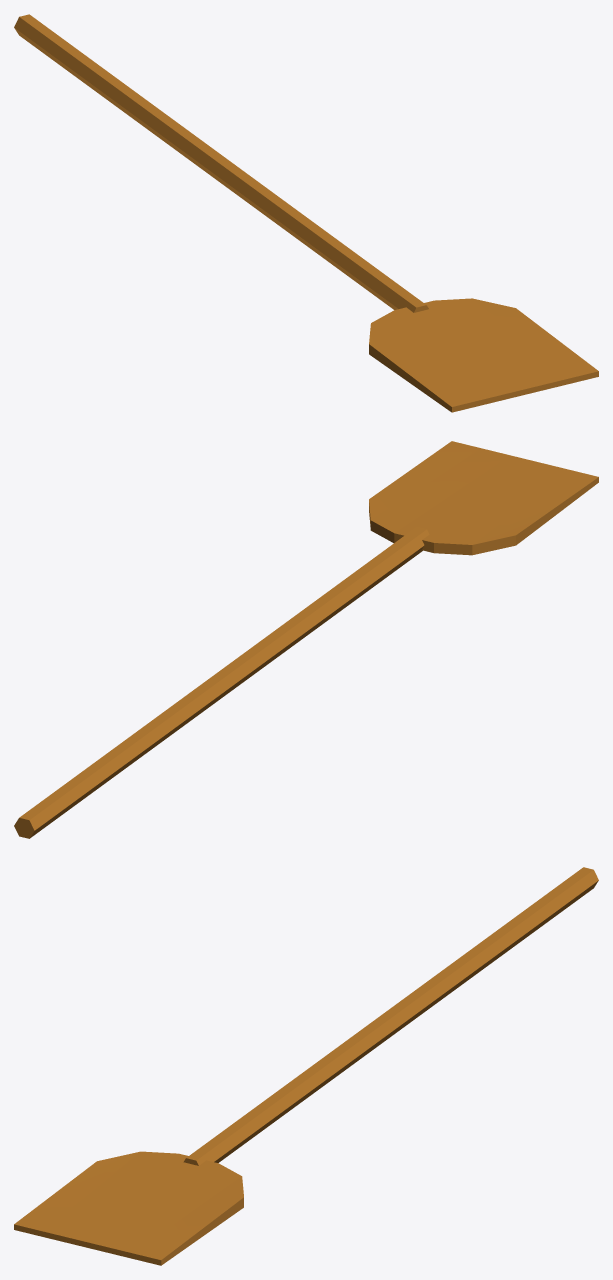
File: oar_01.fbx
The picture shows the model from 3 angles, top to bottom: view 1: azimuth 30°, elevation 25°; view 2: azimuth 150°, elevation 25°; view 3: azimuth 330°, elevation 25°; orthographic projection.
Visible parts, largest first — view 1: Oar_01; view 2: Oar_01; view 3: Oar_01.
Boxes of the visible parts, x1,y1,x2,y2 form: Oar_01: (14,14,598,412); Oar_01: (14,441,598,838); Oar_01: (14,867,598,1265).
Bounding box in the file's own units: 19.88 × 117 × 2.41.
